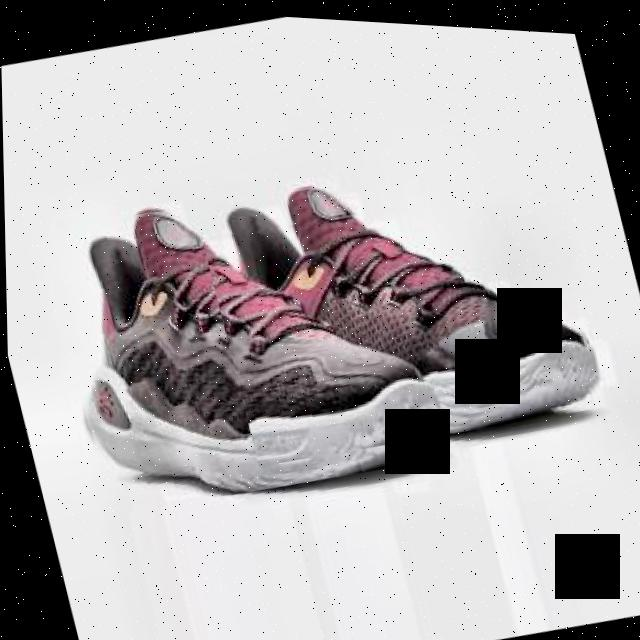shoe: (33, 147, 450, 531), (191, 122, 605, 479)
